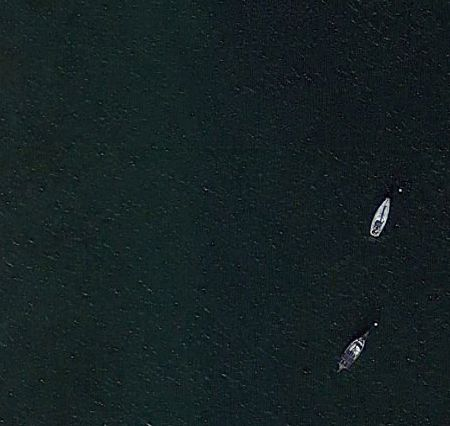boat: (337, 324, 373, 373), (369, 193, 392, 238)
